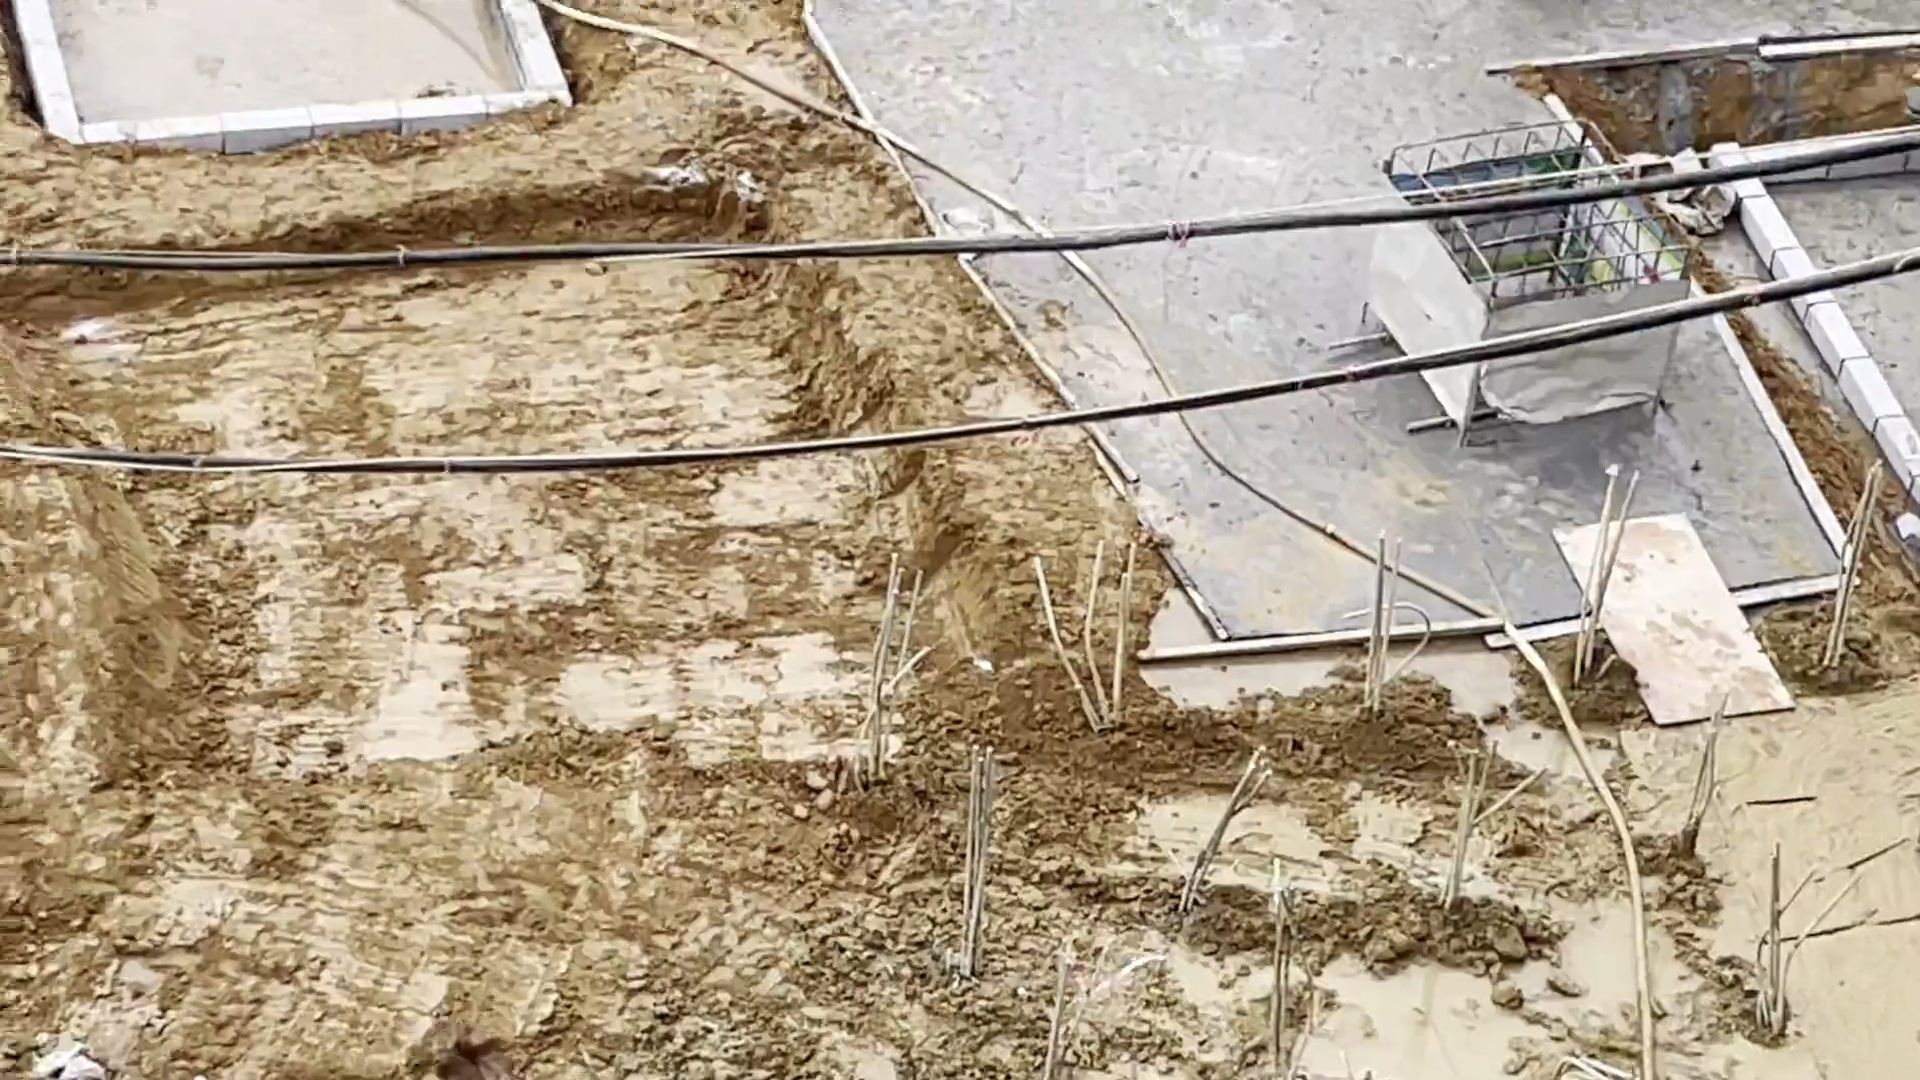brick: (1815, 301, 1920, 483), (1717, 127, 1920, 175), (15, 3, 76, 149), (1734, 179, 1808, 285), (500, 4, 570, 95), (402, 91, 545, 129), (218, 112, 401, 136), (84, 117, 219, 142)
